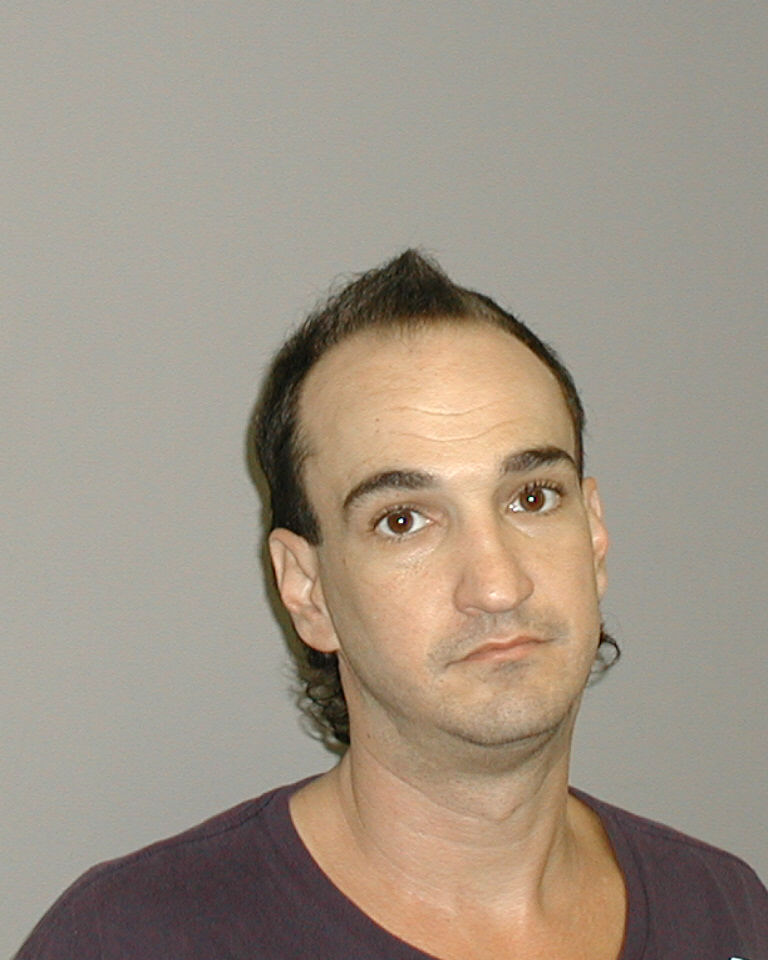face: (272, 270, 610, 750)
